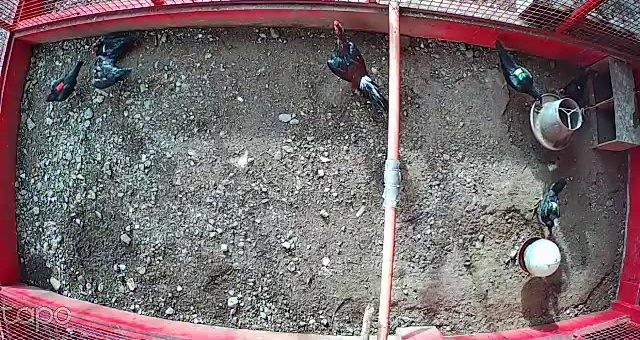Chicken: (484, 32, 542, 100), (522, 178, 572, 235), (45, 57, 85, 104), (551, 65, 594, 108), (85, 56, 134, 93), (91, 27, 140, 61)
Rooster: (314, 14, 389, 112)
Saddle_Color_Red: (57, 82, 65, 91)
Saddle_Color_YellowGreen: (512, 66, 527, 80)
